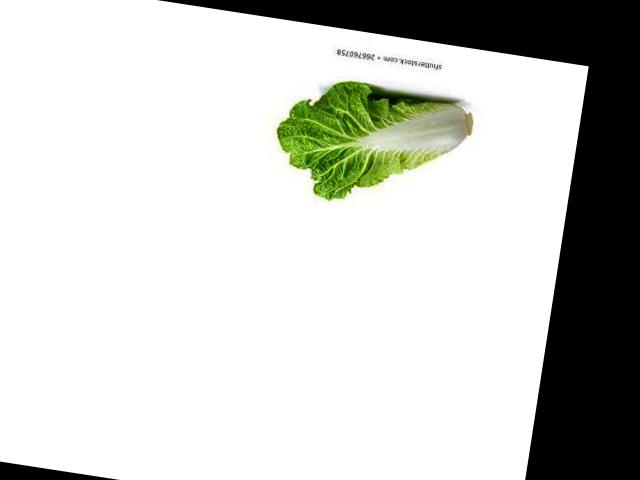lettuce: (287, 76, 469, 201)
